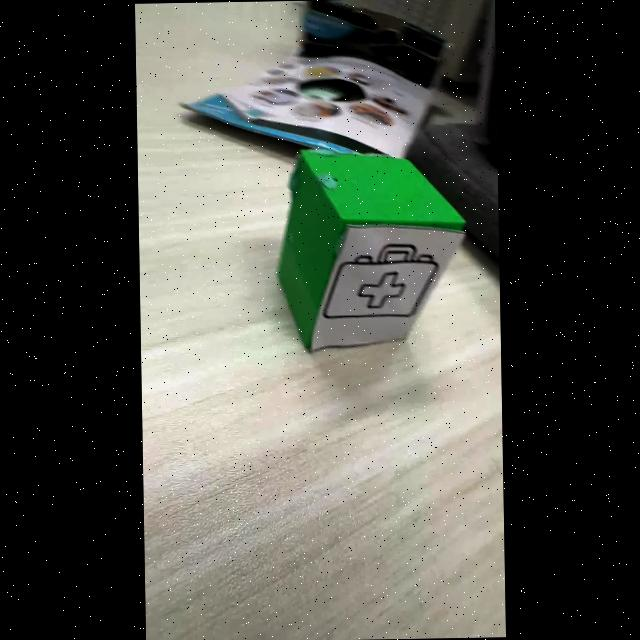Medkit: (323, 244, 439, 320)
